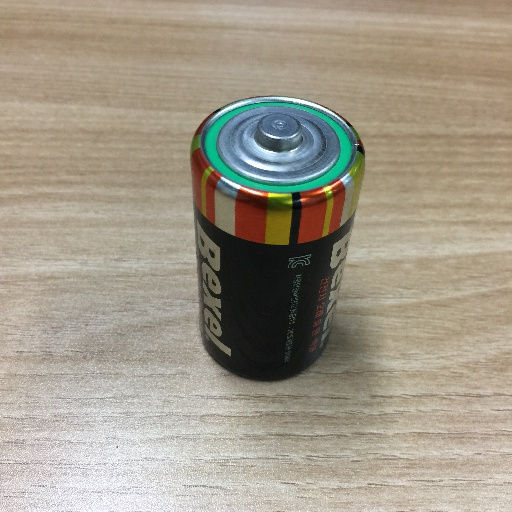Battery_0: (185, 90, 373, 391)
